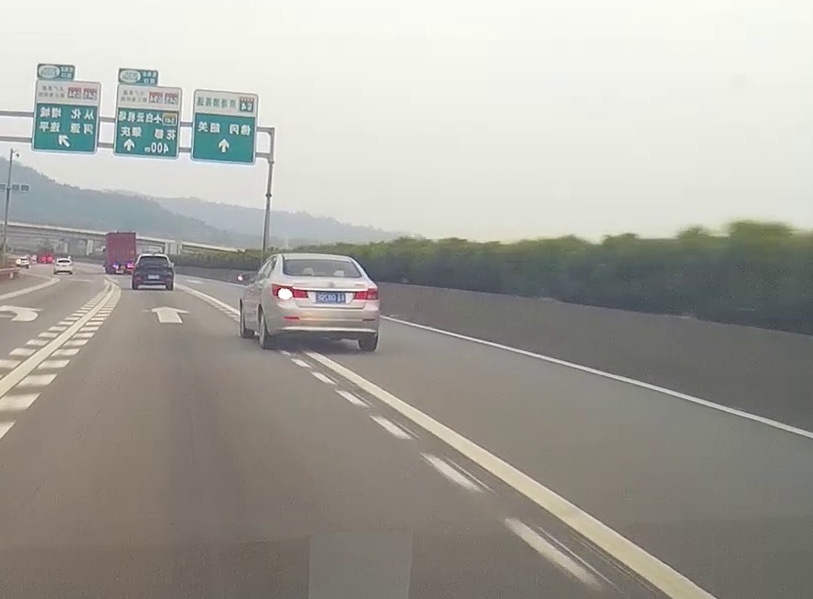L_light: (271, 283, 309, 299), (134, 266, 142, 270)
R_light: (354, 287, 378, 300), (164, 266, 173, 270)
T_light: (312, 258, 326, 263), (150, 255, 156, 258)
day-left: (270, 253, 380, 350)
day-no: (132, 254, 174, 290)
